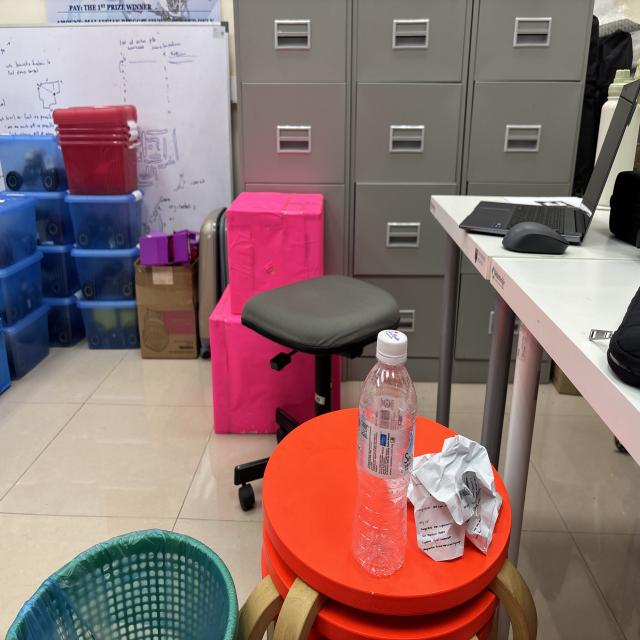crumpled_paper: (405, 426, 508, 572)
plastic_bottle: (348, 320, 422, 582)
